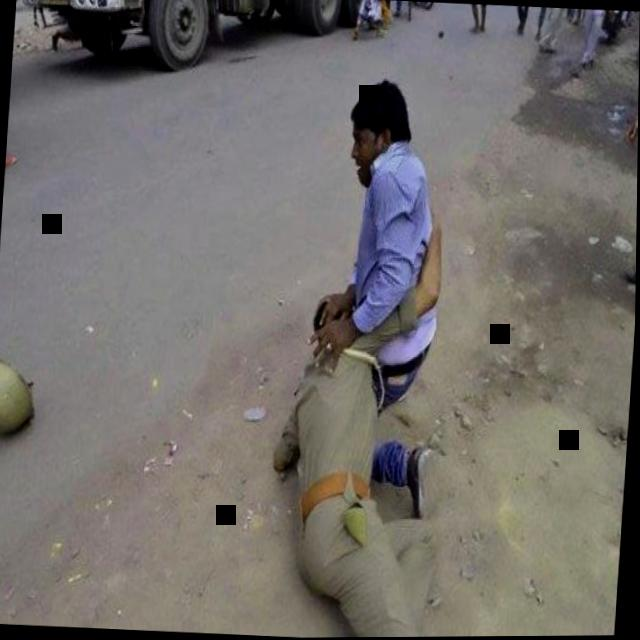Fall-Detected: (257, 283, 485, 634)
